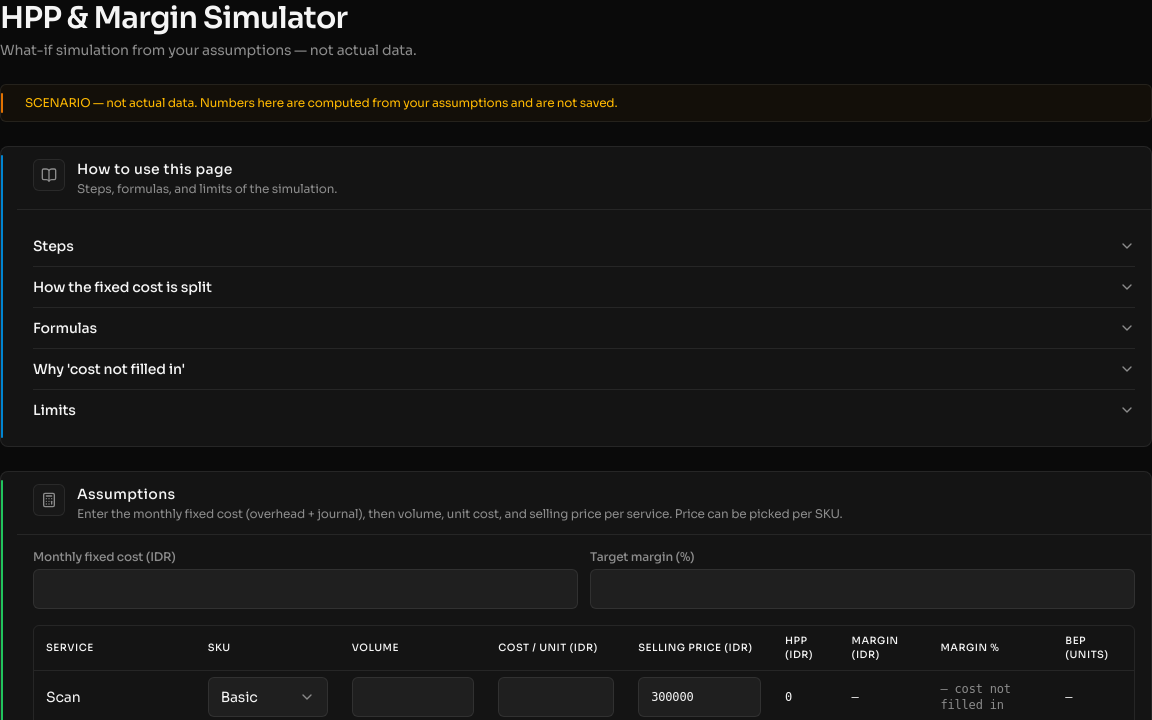
Scenario: AdminHppSimulator › computes scan HPP, margin, and margin percent from typed assumptions
Type "100000" into the field with test id "hpp-sim-fixed-cost" at (306,588), box [33,568,578,608]
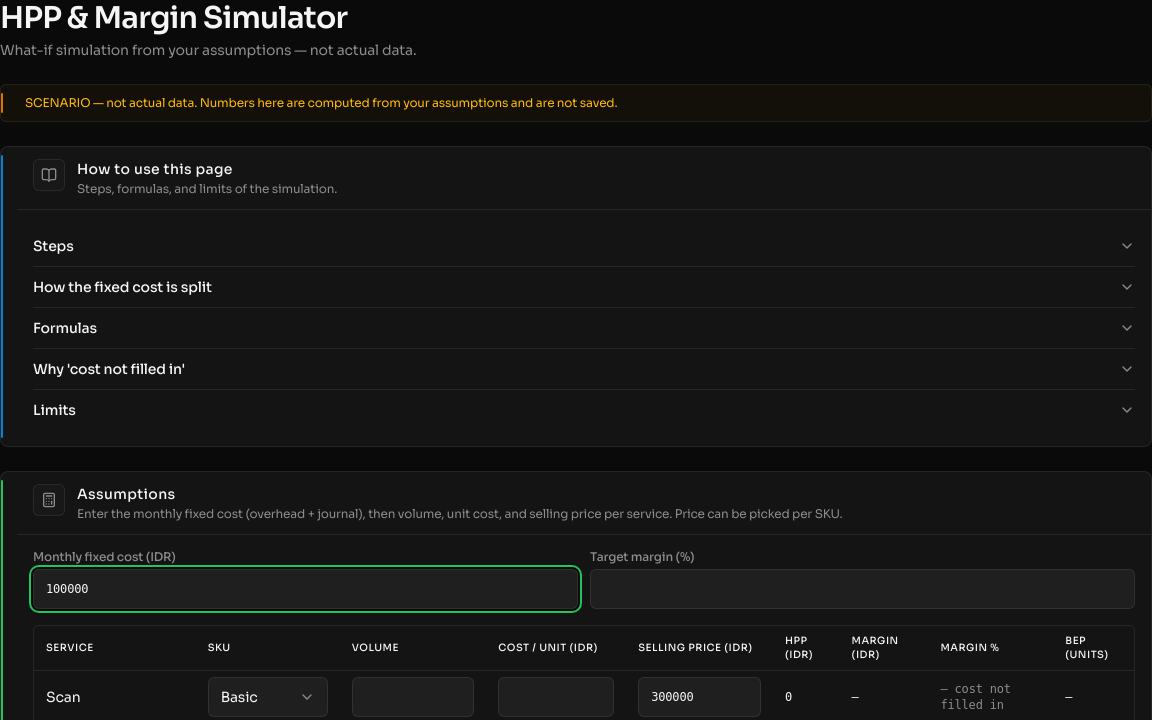
Type "10" into the field with test id "hpp-sim-volume-scan" at (413,697), box [352,677,474,717]
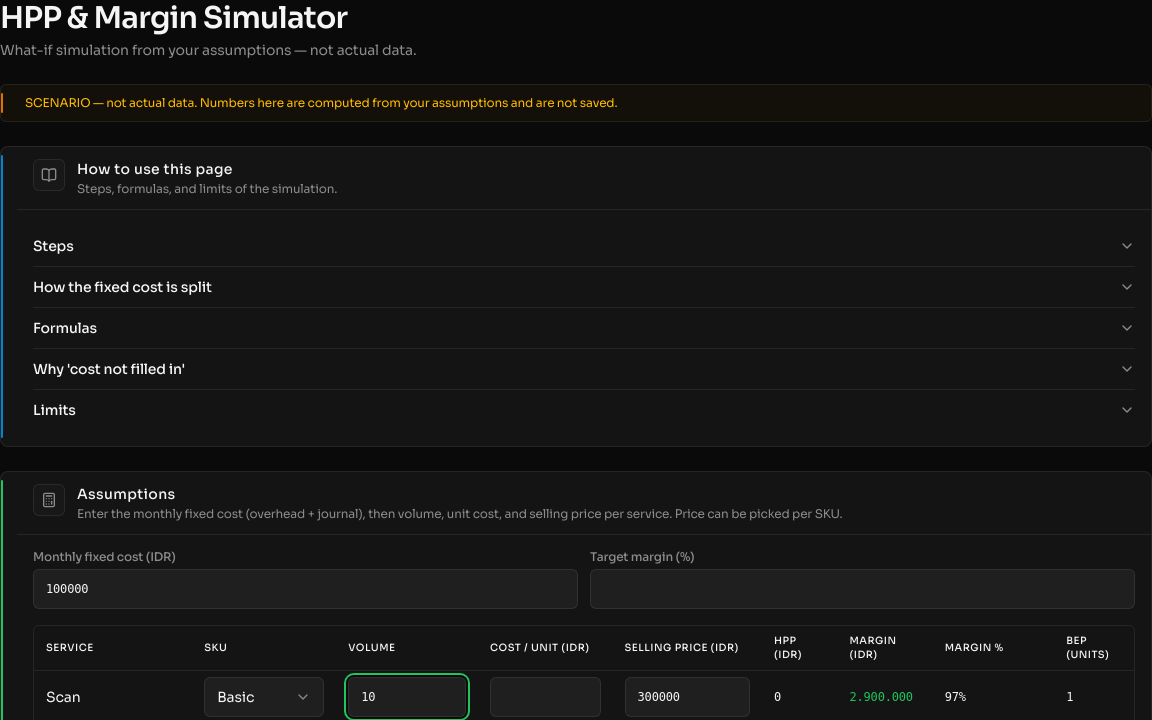
Type "50000" into the field with test id "hpp-sim-unitcost-scan" at (545,697), box [490,677,600,717]
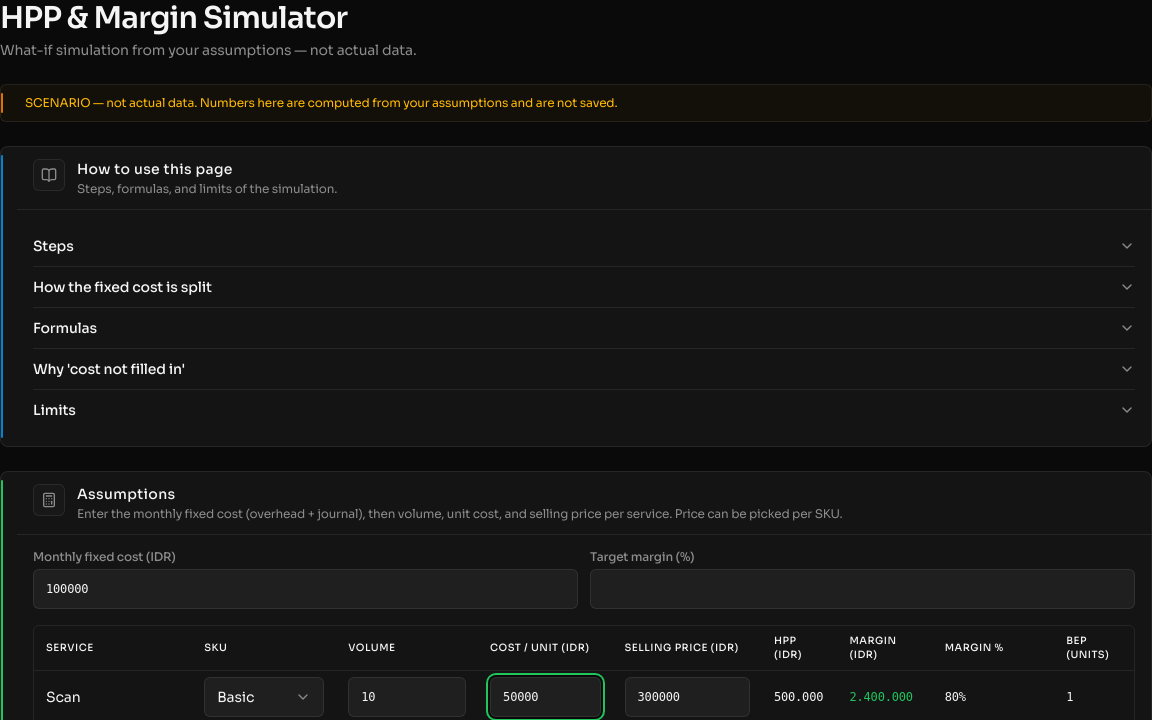
Replace the text in the field with test id "hpp-sim-price-scan" with "100000" at (687,697), box [624,677,750,717]
(page scrolled)
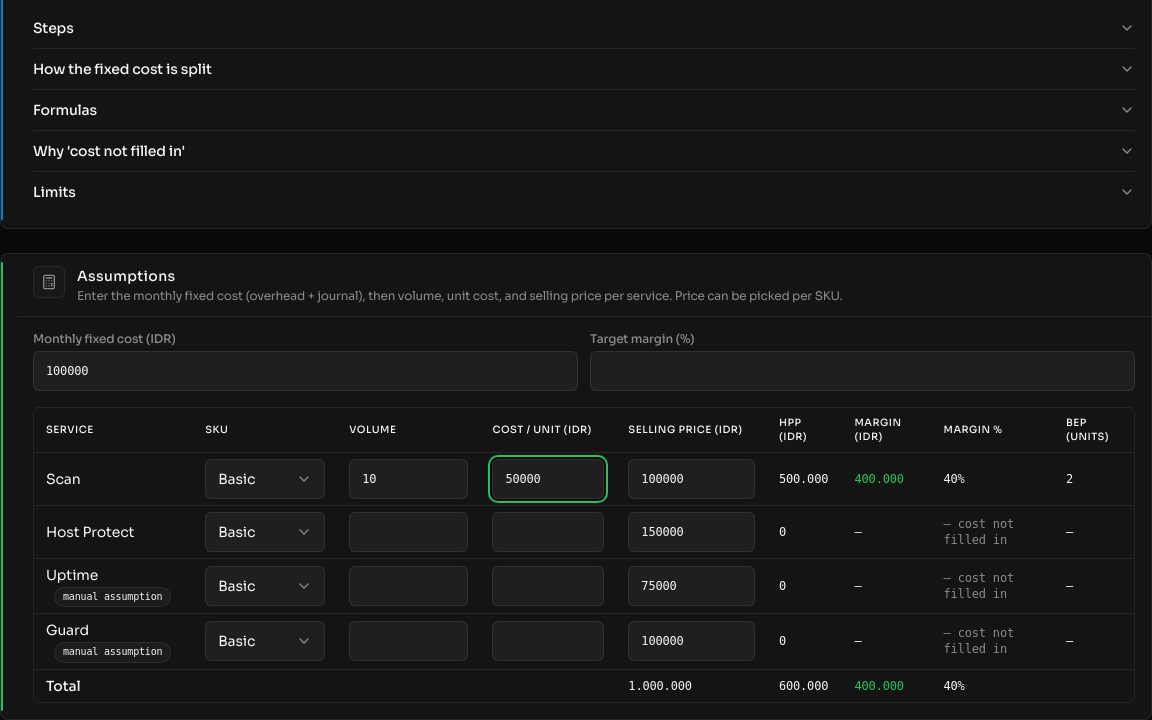
Expected: the row with test id "hpp-sim-row-scan" shows "500.000", [779,472,828,486]
Expected: the row with test id "hpp-sim-row-scan" shows "400.000", [854,472,904,486]
Expected: the row with test id "hpp-sim-row-scan" shows "40%", [944,472,965,486]
